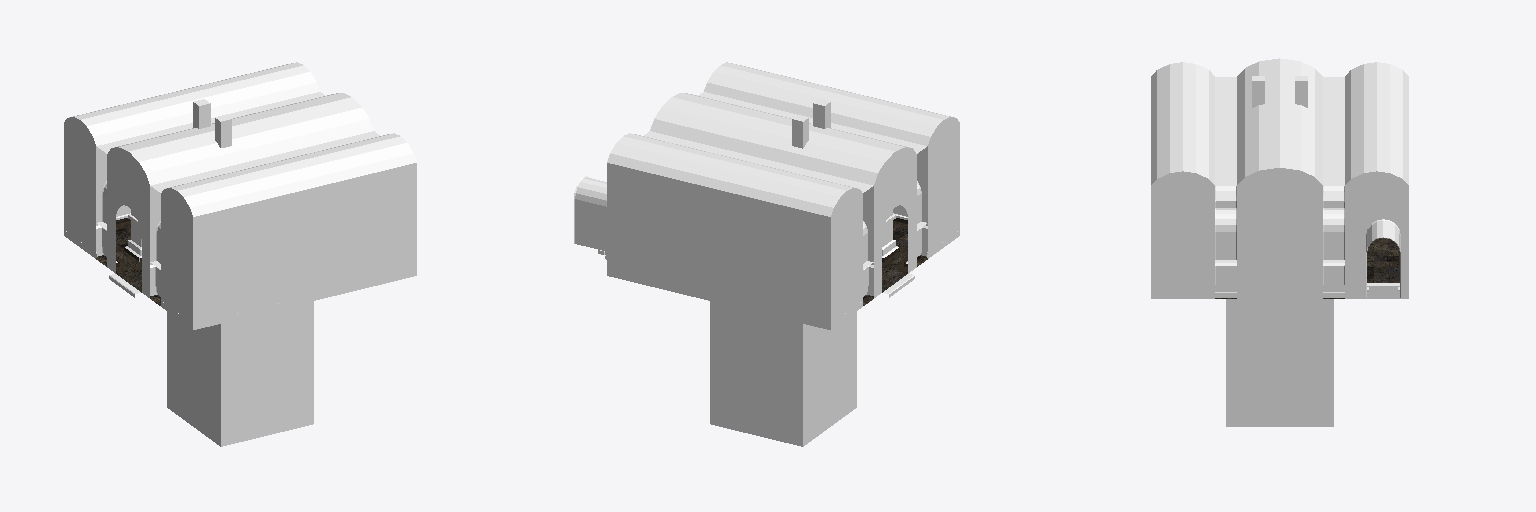
3 renders of one model, left to right at view 1: azimuth 30°, elevation 25°; view 2: azimuth 150°, elevation 25°; view 3: azimuth 270°, elevation 25°, orthographic.
Visible parts, largest first — view 1: mesh7, mesh0, mesh4, mesh2, mesh6; view 2: mesh7, mesh0, mesh4, mesh2, mesh6; view 3: mesh7, mesh0, mesh4, mesh2, mesh6.
Part boxes in pixels (bbox=[...]): mesh7: bbox=[64, 62, 416, 329]; mesh0: bbox=[167, 301, 313, 446]; mesh4: bbox=[96, 146, 160, 263]; mesh2: bbox=[96, 214, 160, 296]; mesh6: bbox=[96, 227, 160, 305]; mesh7: bbox=[574, 62, 959, 329]; mesh0: bbox=[710, 301, 856, 446]; mesh4: bbox=[863, 146, 927, 263]; mesh2: bbox=[863, 214, 927, 296]; mesh6: bbox=[863, 226, 927, 305]; mesh7: bbox=[1151, 58, 1408, 298]; mesh0: bbox=[1226, 299, 1333, 426]; mesh4: bbox=[1215, 186, 1344, 259]; mesh2: bbox=[1215, 260, 1344, 291]; mesh6: bbox=[1215, 238, 1399, 298].
Size of the model in its own units: 14.35 by 16 by 12.
8 materials, 2 textured.